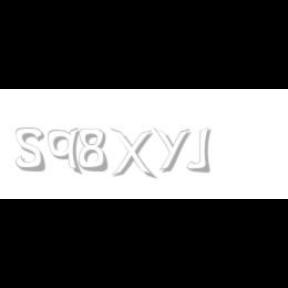8: (79, 128, 108, 172)
J: (186, 128, 210, 172)
S: (16, 128, 46, 172)
X: (110, 128, 154, 180)
q: (47, 128, 83, 176)
y: (154, 128, 194, 172)
